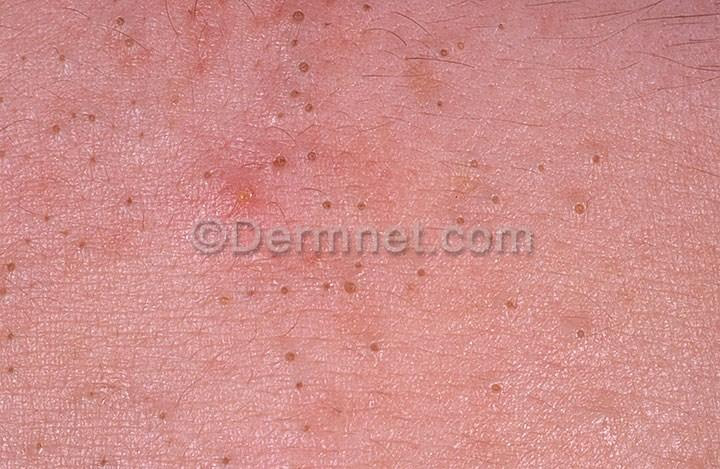Acne: (166, 181, 341, 254), (451, 161, 578, 260), (91, 39, 224, 92), (279, 46, 319, 162)
